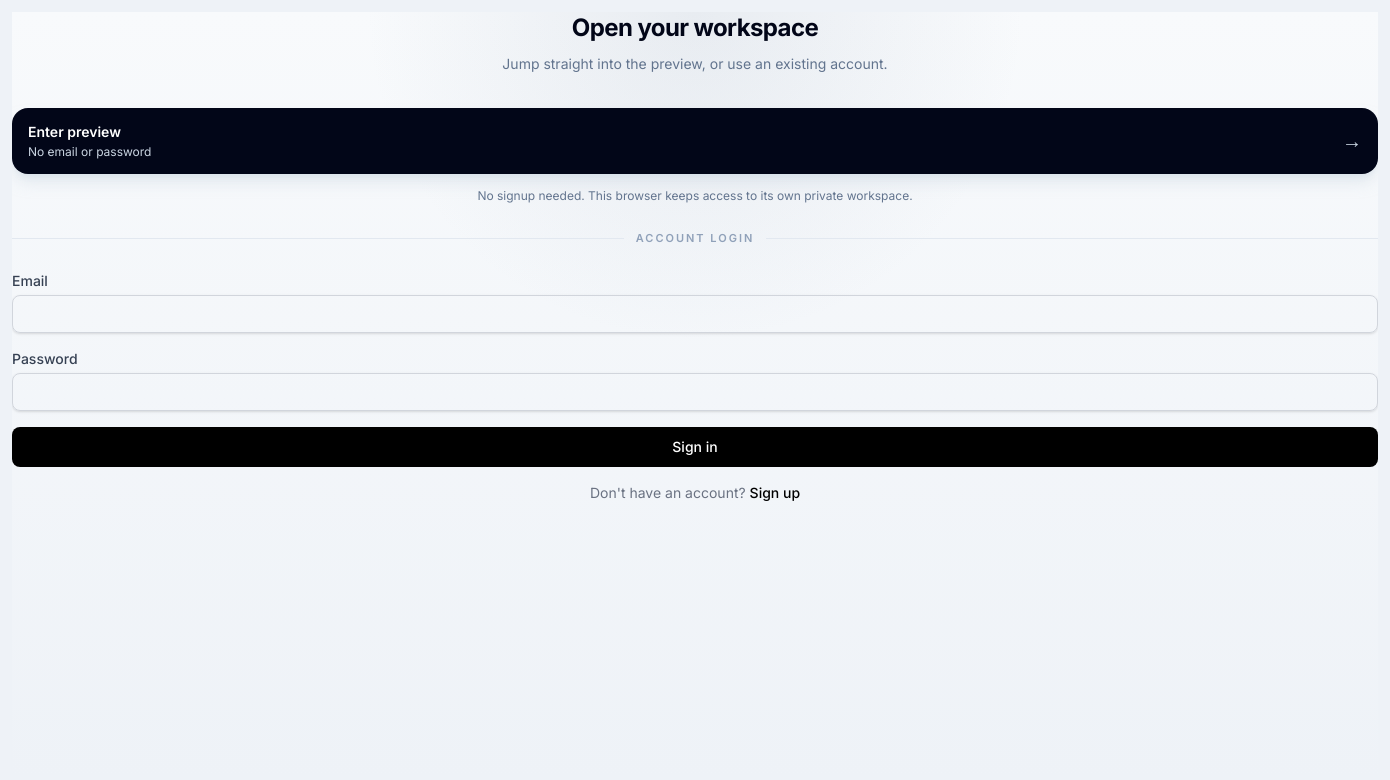
Test: LoginForm › submission › displays a safe error when preview entry fails
Click the button "Enter preview No email or password →" at (74, 132), box [12,108,1378,174]
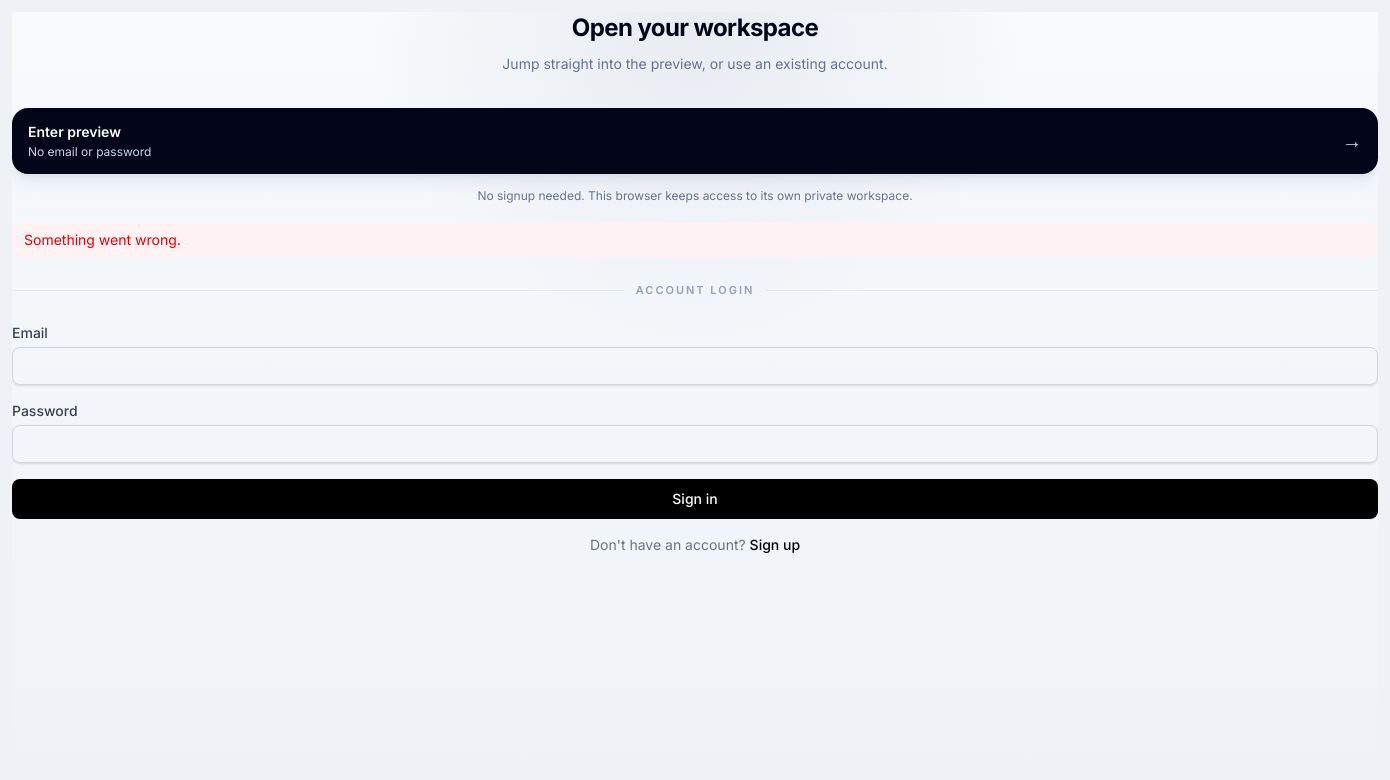
Result: the message reads "Something went wrong." at [24,231,181,248]
